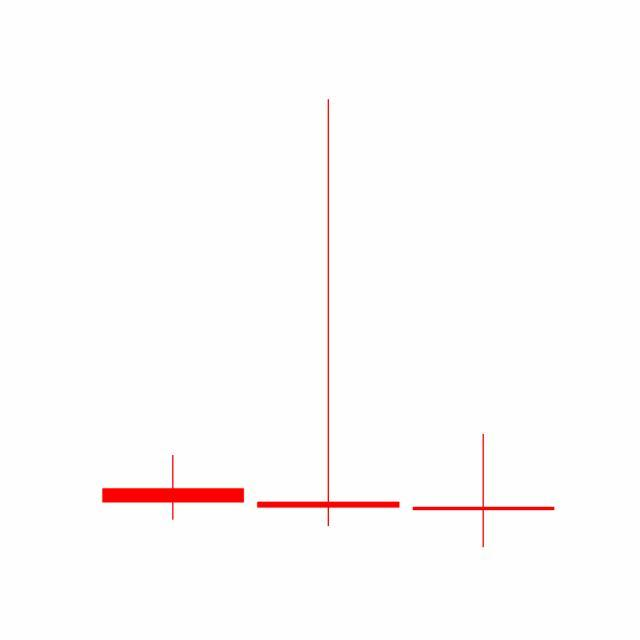Spinning Top: (250, 95, 407, 532)
